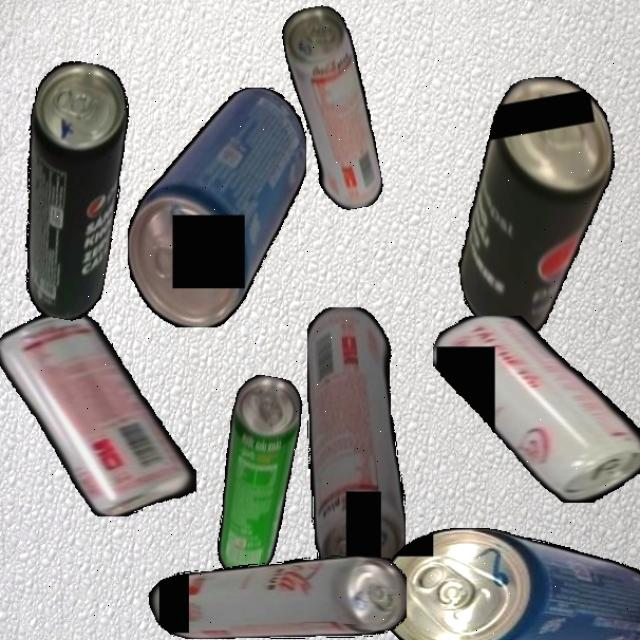debris: (429, 67, 640, 346), (127, 86, 306, 328), (0, 311, 196, 516), (433, 314, 640, 502), (0, 55, 140, 324), (380, 527, 640, 640), (306, 306, 406, 586), (279, 1, 385, 216), (144, 555, 406, 639), (205, 372, 307, 582)
